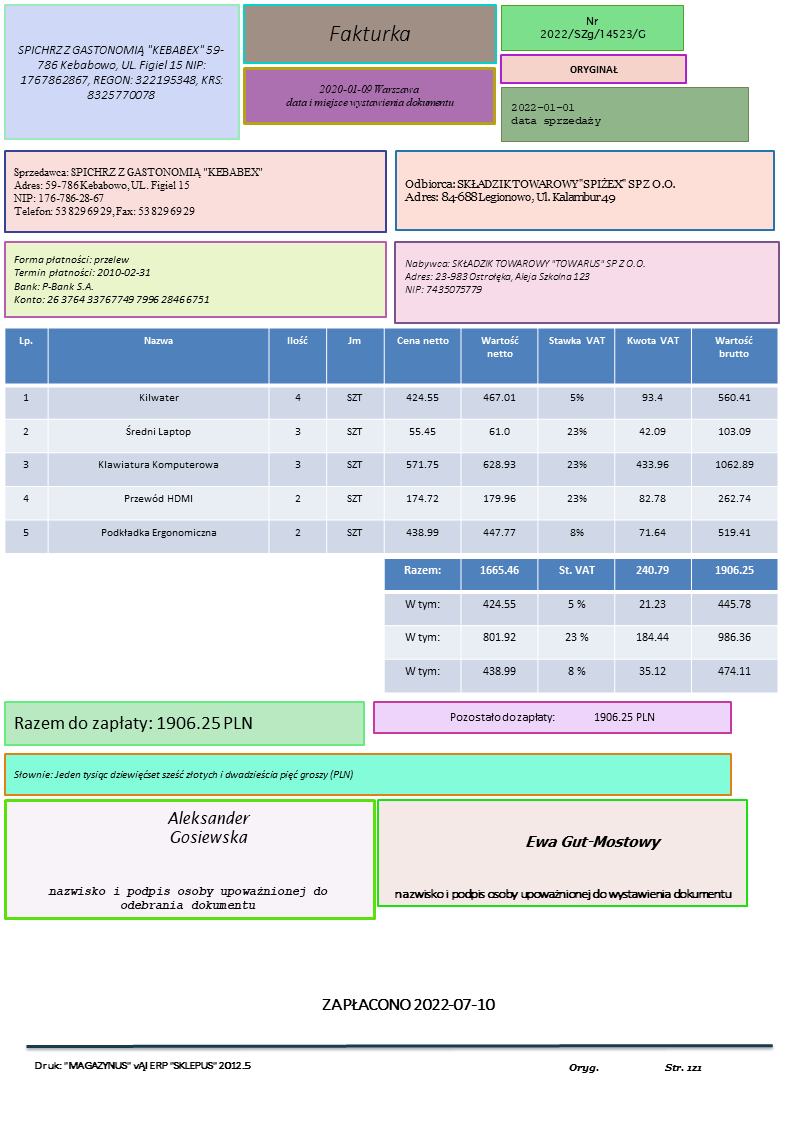Table: (3, 327, 779, 555), (383, 558, 778, 693)
TextBox: (11, 163, 266, 219), (12, 41, 226, 104), (10, 252, 212, 306), (401, 256, 647, 296), (400, 175, 676, 205), (46, 883, 328, 912), (391, 886, 733, 903), (12, 712, 254, 734), (284, 82, 456, 110), (12, 767, 355, 781), (318, 994, 497, 1015), (165, 808, 255, 847), (30, 1058, 253, 1073), (523, 831, 664, 854), (537, 13, 648, 42), (448, 709, 655, 724), (509, 100, 603, 129), (565, 1060, 705, 1075), (326, 23, 412, 46), (566, 62, 620, 75)
